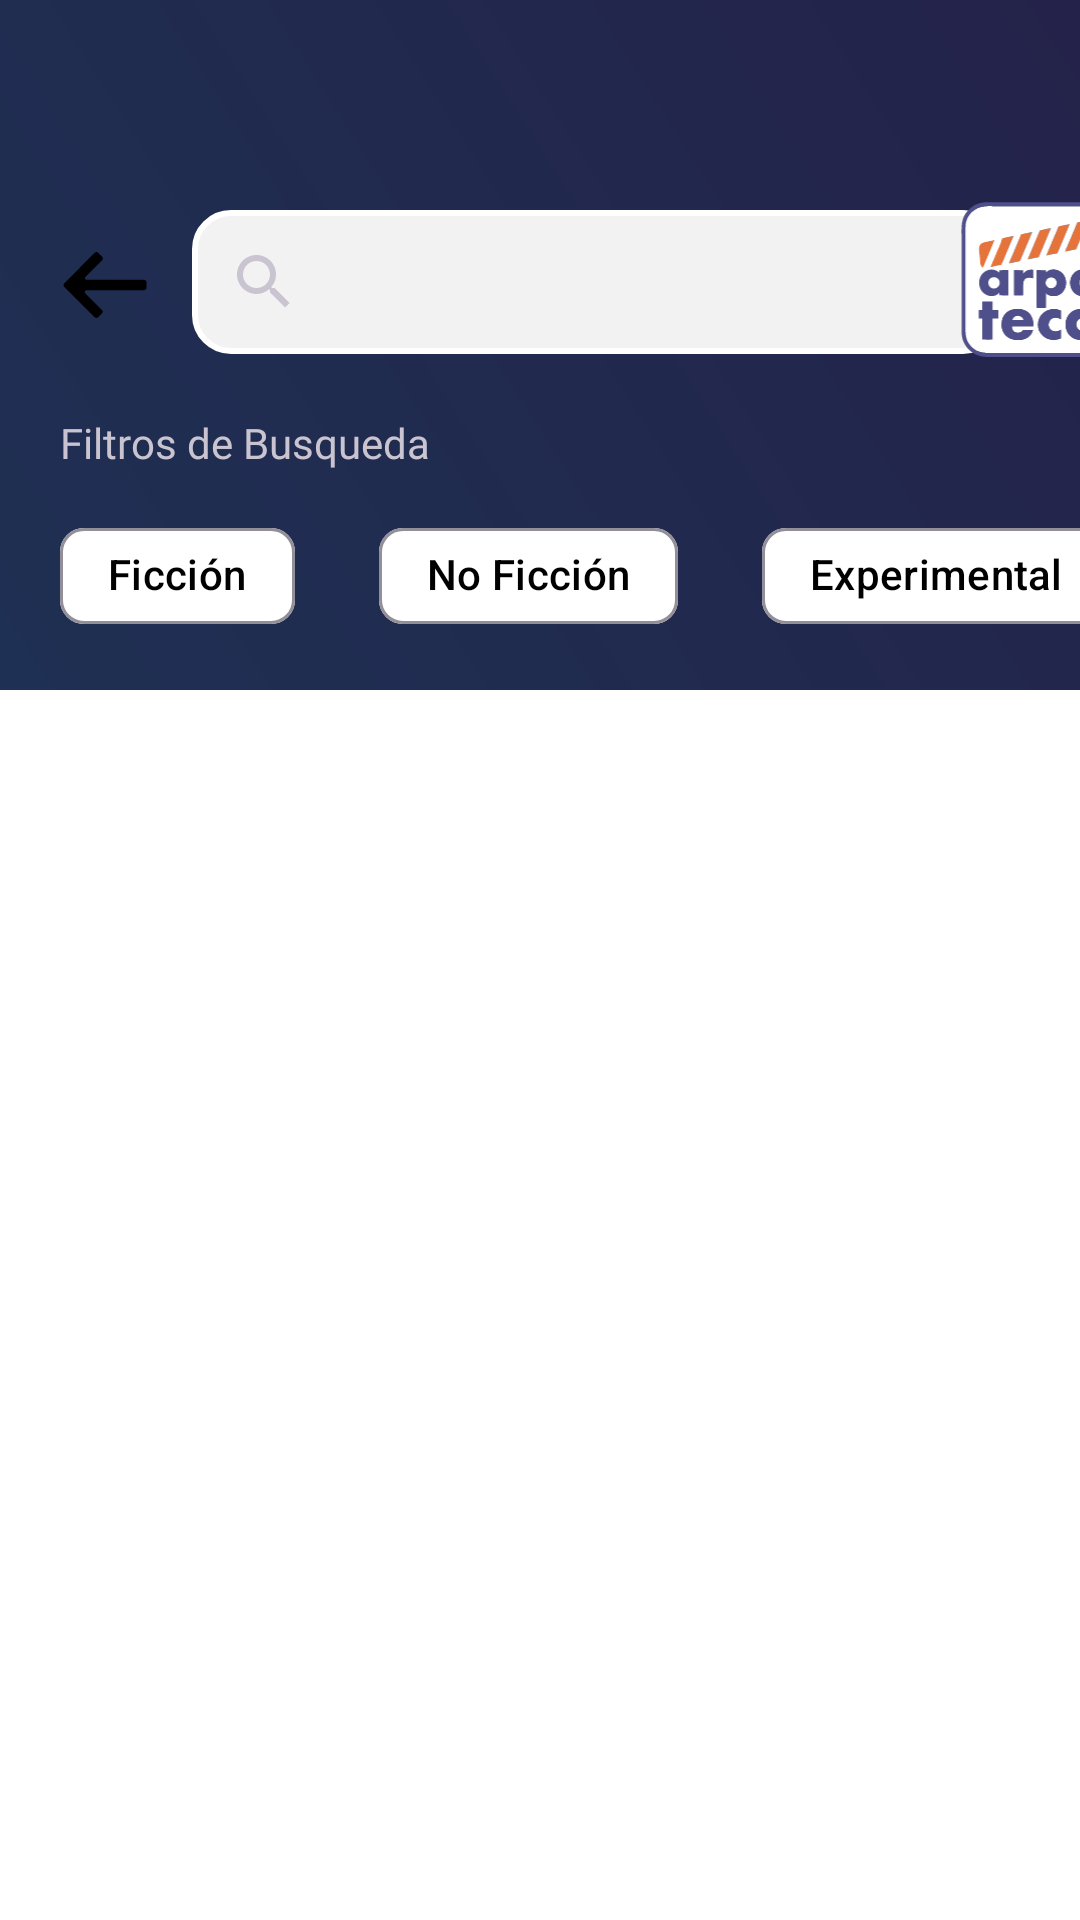

Icons on this 1080px x 1920px Android screen, each with its box as region(x1, y1, x2, y2):
back arrow: region(63, 252, 147, 318)
